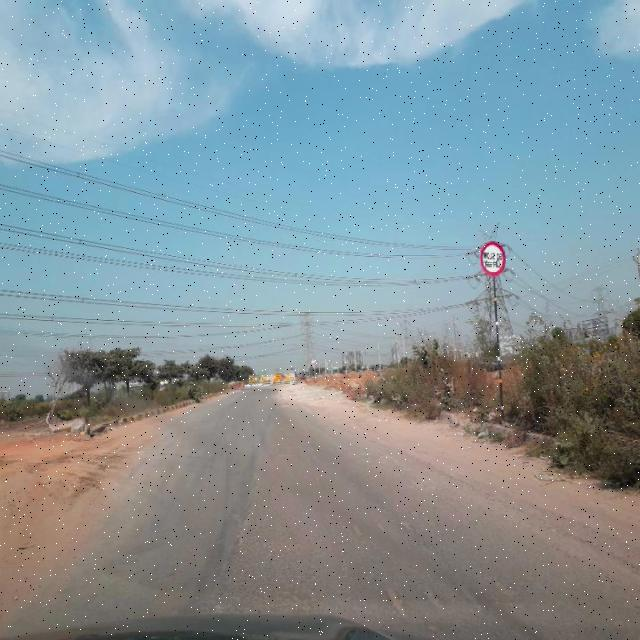D00: (232, 489, 260, 566), (461, 570, 490, 620), (378, 578, 406, 626), (420, 572, 448, 620), (401, 498, 429, 546)
